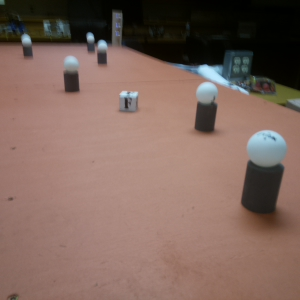blockF: (118, 90, 141, 113)
corner: (111, 11, 123, 46)
obstacle: (241, 130, 284, 215), (193, 82, 219, 133), (63, 57, 79, 90), (21, 33, 33, 57), (97, 41, 106, 66), (87, 30, 95, 52)
